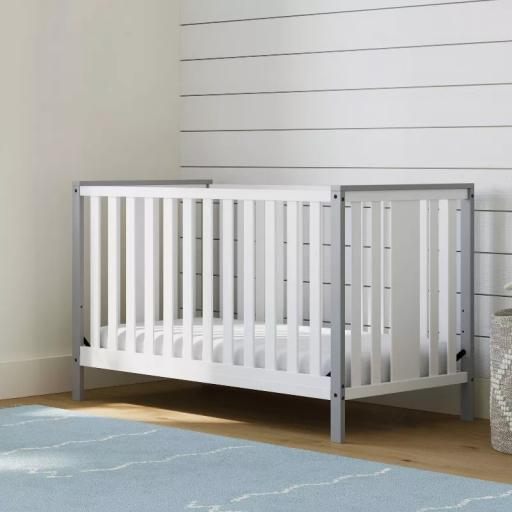crib: (70, 180, 472, 444)
